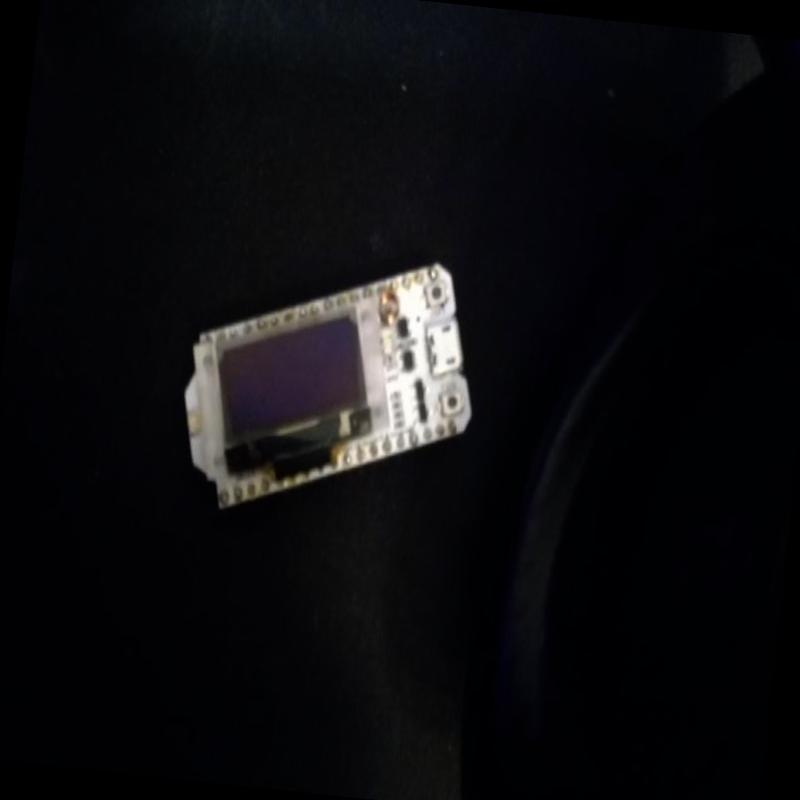Heltec_ESP32_Lora: (168, 234, 498, 543)
